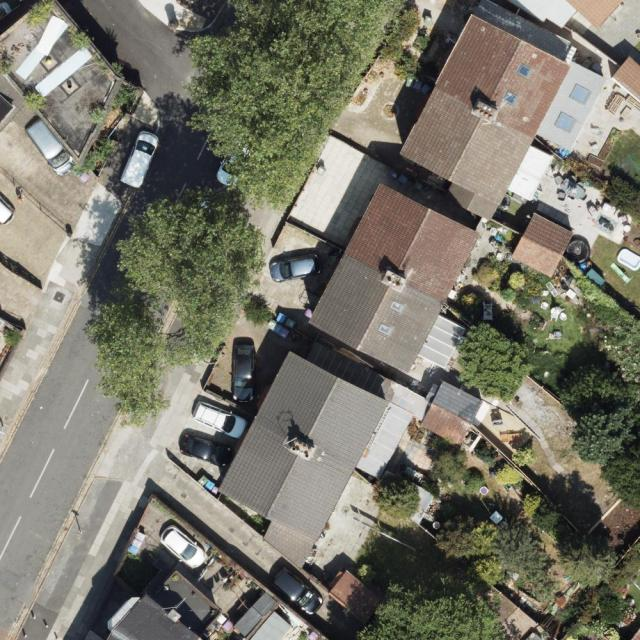roof: (395, 14, 608, 229), (219, 350, 389, 571), (304, 176, 478, 379), (97, 586, 213, 640), (418, 381, 483, 450), (511, 212, 573, 278), (562, 1, 623, 29), (611, 55, 640, 99)
skylight: (568, 81, 593, 109), (552, 110, 574, 135), (370, 321, 392, 343), (501, 88, 522, 109), (512, 61, 533, 82), (387, 296, 405, 315)
